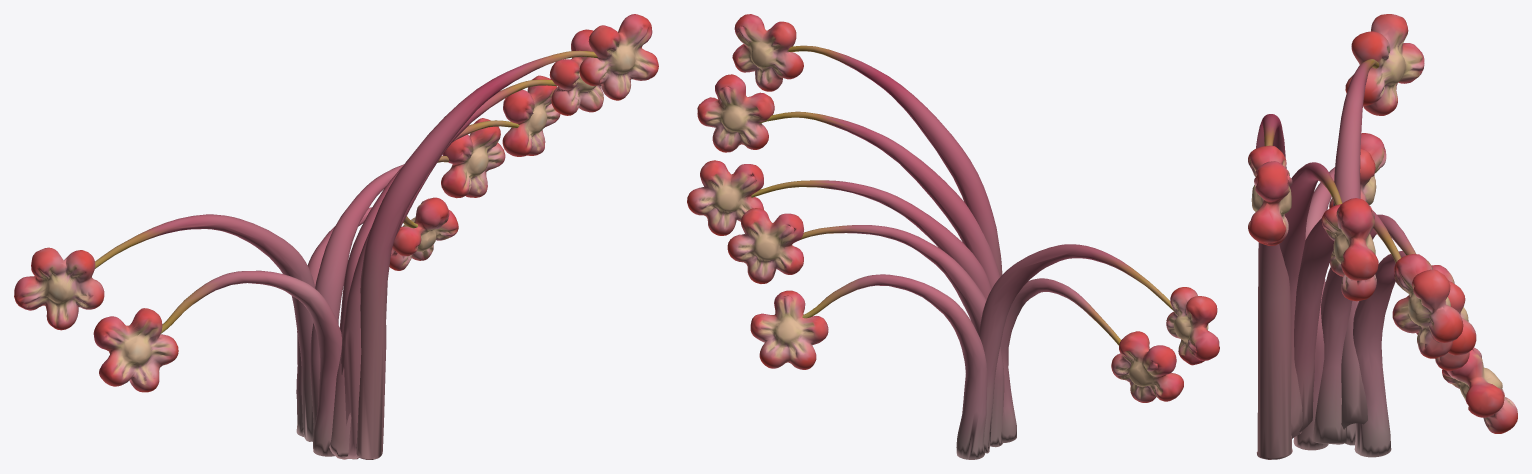
3 views of the same model, side by side, from view 1: azimuth 30°, elevation 25°; view 2: azimuth 150°, elevation 25°; view 3: azimuth 270°, elevation 25° (orthographic). The views are drawn at different scales.
Parts seen in each view (by area): view 1: LOD 3_6720493226539483728_d61aa4d54b65f9a4b9f71cf390cbd75f; view 2: LOD 3_6720493226539483728_d61aa4d54b65f9a4b9f71cf390cbd75f; view 3: LOD 3_6720493226539483728_d61aa4d54b65f9a4b9f71cf390cbd75f.
Part boxes in pixels (<box>): LOD 3_6720493226539483728_d61aa4d54b65f9a4b9f71cf390cbd75f: <box>14,14,658,459</box>; LOD 3_6720493226539483728_d61aa4d54b65f9a4b9f71cf390cbd75f: <box>687,14,1219,459</box>; LOD 3_6720493226539483728_d61aa4d54b65f9a4b9f71cf390cbd75f: <box>1248,14,1517,459</box>.
Bounding box in the file's own units: 13.85 × 8.6 × 4.65.
